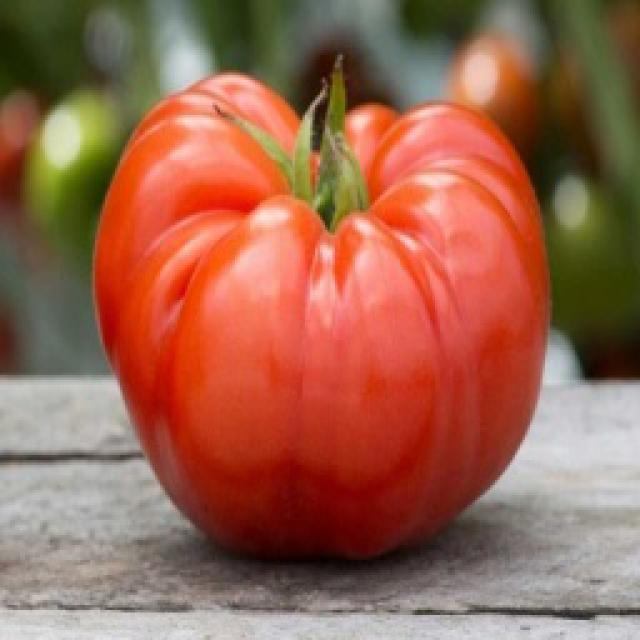tomato: (92, 72, 552, 558)
